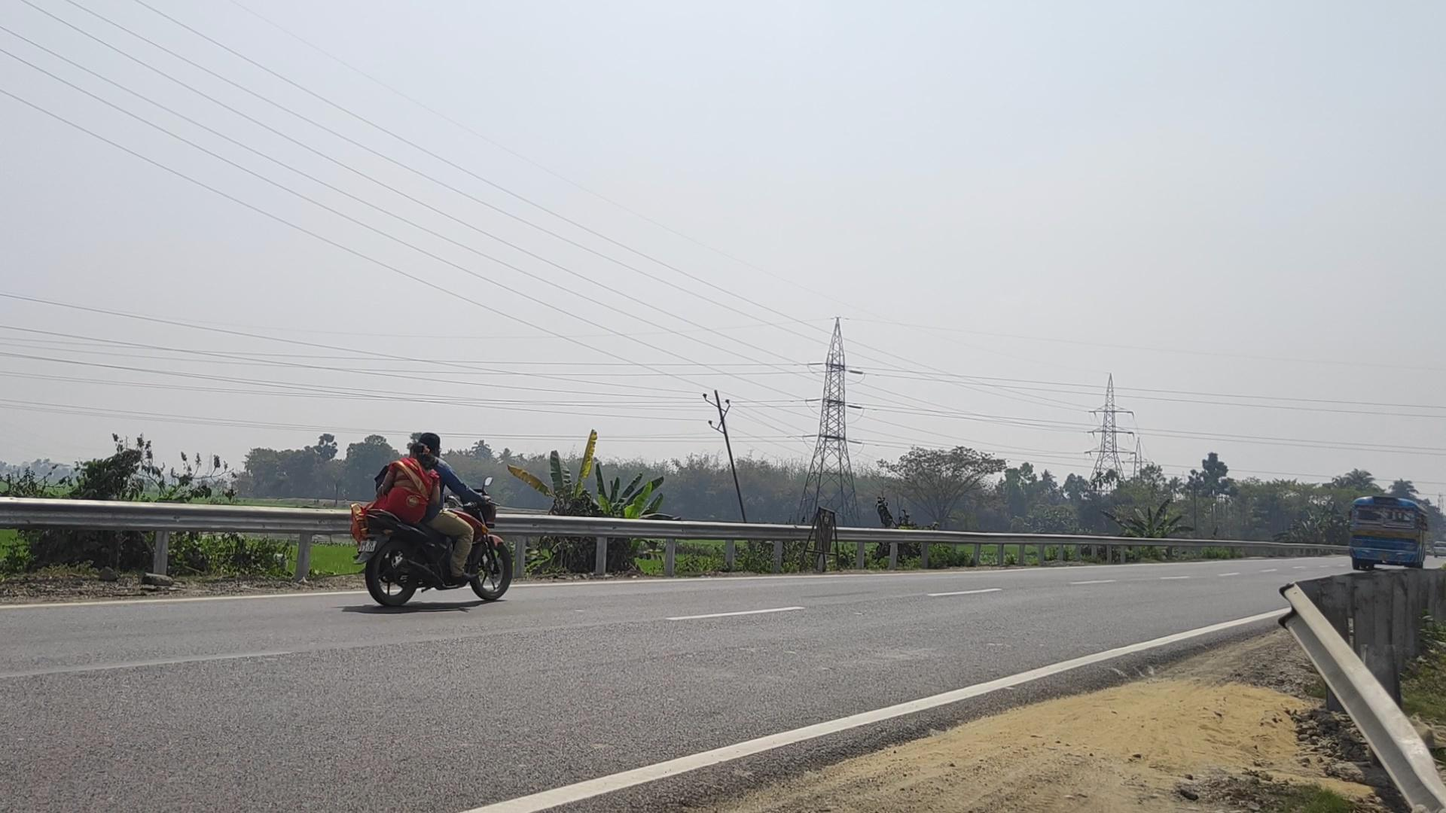Bus: (1348, 495, 1428, 571)
bike: (355, 431, 513, 608)
